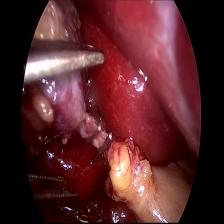Grasper: (24, 44, 104, 202)
